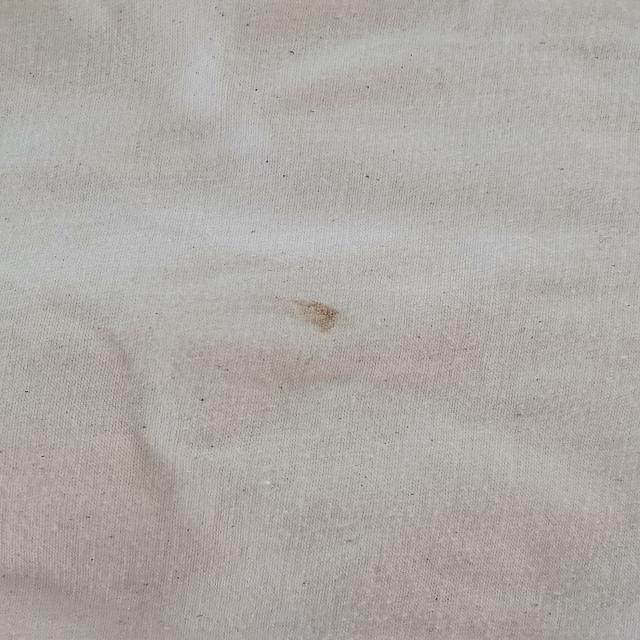taaaches: (260, 290, 376, 339)
